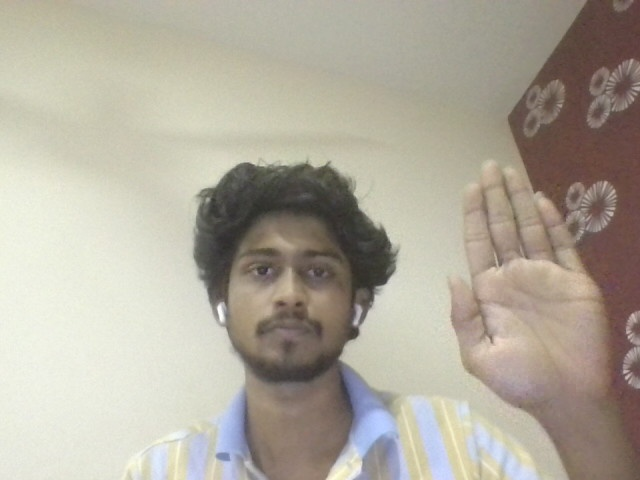hello: (441, 153, 639, 402)
